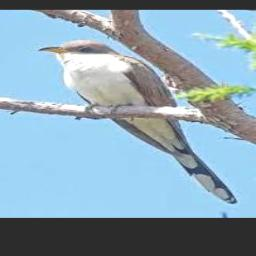Cuckoo: (40, 40, 238, 204)
